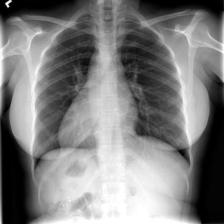normal: (29, 11, 195, 181)
